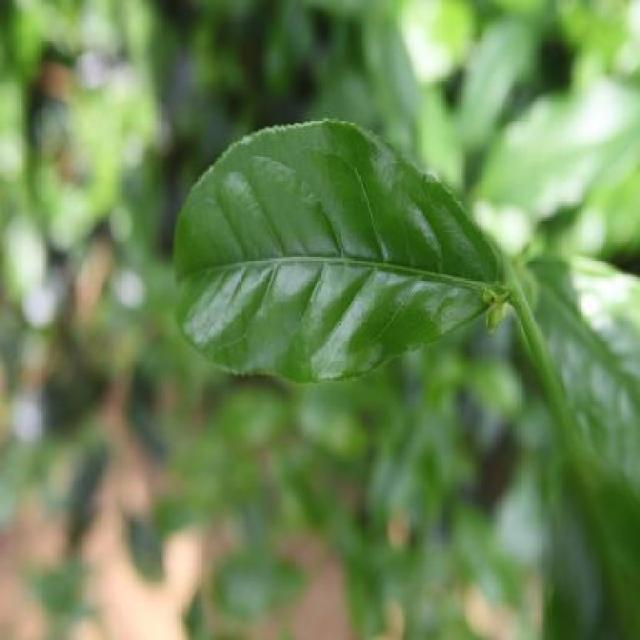Tea leaf: (149, 128, 505, 397)
